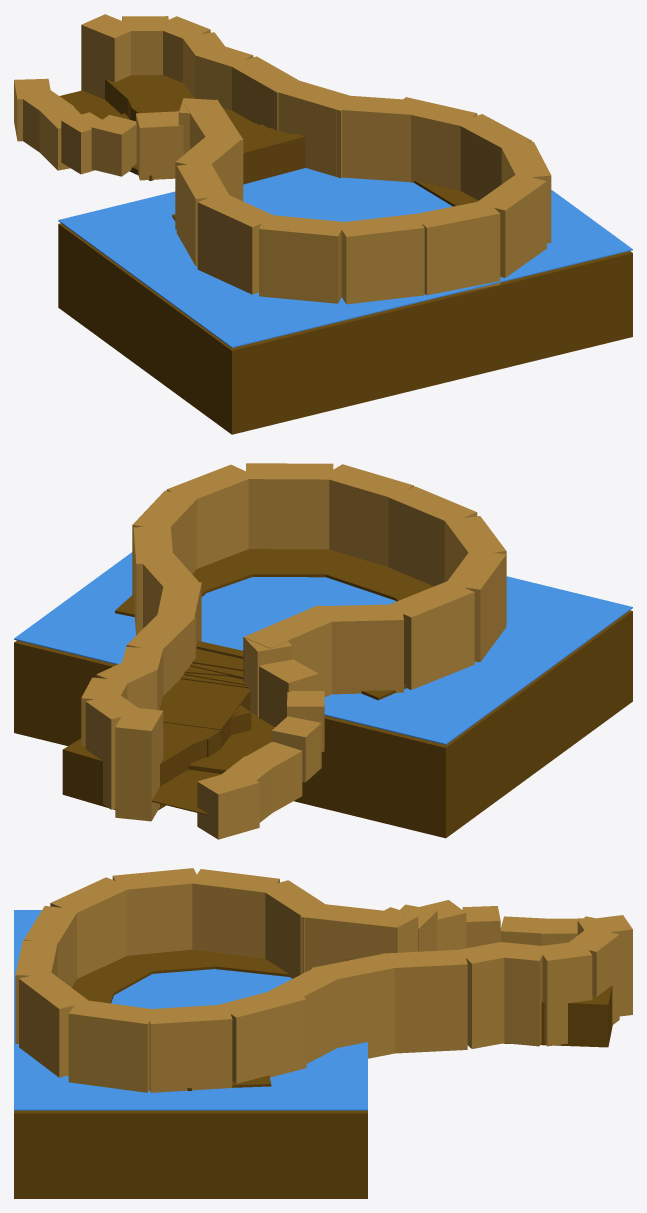
File: Exportable.fbx
3 renders of one model, top to bottom at view 1: azimuth 30°, elevation 25°; view 2: azimuth 150°, elevation 25°; view 3: azimuth 270°, elevation 25°, orthographic. The views are drawn at different scales.
Parts seen in each view (by area): view 1: Cube__71_, Cube__81_, Cube__80_, Cube__77_, Cube__79_, Cube__69_, Cube__74_, Cube__67_, Cube__78_, Cube__72_, Cube__75_, Cube__13_ (+19 smaller); view 2: Cube__71_, Cube__81_, Cube__78_, Cube__70_, Cube__73_, Cube__79_, Cube__80_, Cube__76_, Cube__13_, Cube__31_, Cube__74_, Cube__30_ (+24 smaller); view 3: Cube__71_, Cube__81_, Cube__57_, Cube__75_, Cube__76_, Cube__72_, Cube__73_, Cube__67_, Cube__74_, Cube__58_, Cube__78_, Cube__77_ (+19 smaller).
Part boxes in pixels (<box>): Cube__71_: <box>58,223,632,434</box>; Cube__81_: <box>58,168,632,347</box>; Cube__80_: <box>341,214,424,304</box>; Cube__77_: <box>259,215,345,303</box>; Cube__79_: <box>413,202,500,295</box>; Cube__69_: <box>336,95,421,182</box>; Cube__74_: <box>197,192,277,294</box>; Cube__67_: <box>274,79,353,178</box>; Cube__78_: <box>476,174,546,281</box>; Cube__72_: <box>391,97,477,190</box>; Cube__75_: <box>460,114,532,200</box>; Cube__13_: <box>81,14,138,99</box>; Cube__71_: <box>14,610,632,838</box>; Cube__81_: <box>14,552,632,744</box>; Cube__78_: <box>246,463,333,549</box>; Cube__70_: <box>314,604,403,694</box>; Cube__73_: <box>389,581,474,689</box>; Cube__79_: <box>322,464,413,566</box>; Cube__80_: <box>388,486,477,586</box>; Cube__76_: <box>166,464,255,568</box>; Cube__13_: <box>115,707,163,821</box>; Cube__31_: <box>62,722,215,810</box>; Cube__74_: <box>445,550,506,662</box>; Cube__30_: <box>159,679,250,747</box>; Cube__71_: <box>14,1110,367,1198</box>; Cube__81_: <box>14,910,367,1110</box>; Cube__57_: <box>382,950,467,1053</box>; Cube__75_: <box>146,1004,232,1092</box>; Cube__76_: <box>68,1000,157,1092</box>; Cube__72_: <box>218,987,306,1083</box>; Cube__73_: <box>191,869,279,958</box>; Cube__67_: <box>311,954,400,1058</box>; Cube__74_: <box>112,868,200,955</box>; Cube__58_: <box>300,902,406,974</box>; Cube__78_: <box>19,972,89,1077</box>; Cube__77_: <box>50,877,130,978</box>.
Bounding box in the file's own units: 40000 × 14790 × 52470.
